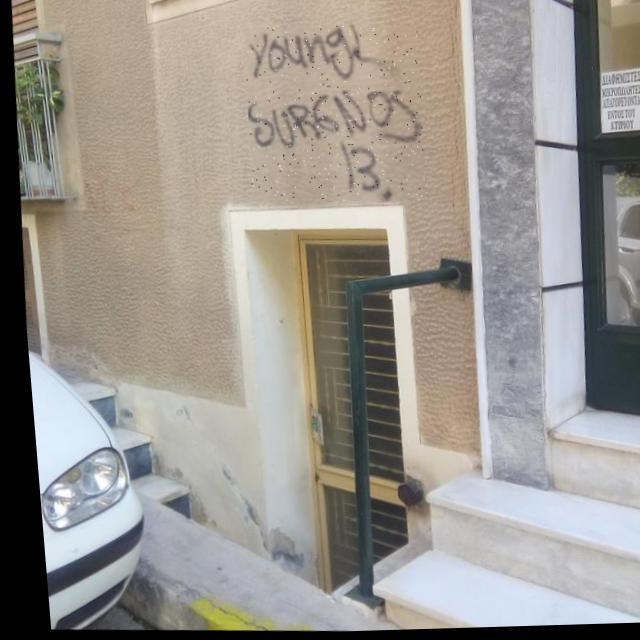-: (237, 21, 428, 208)
